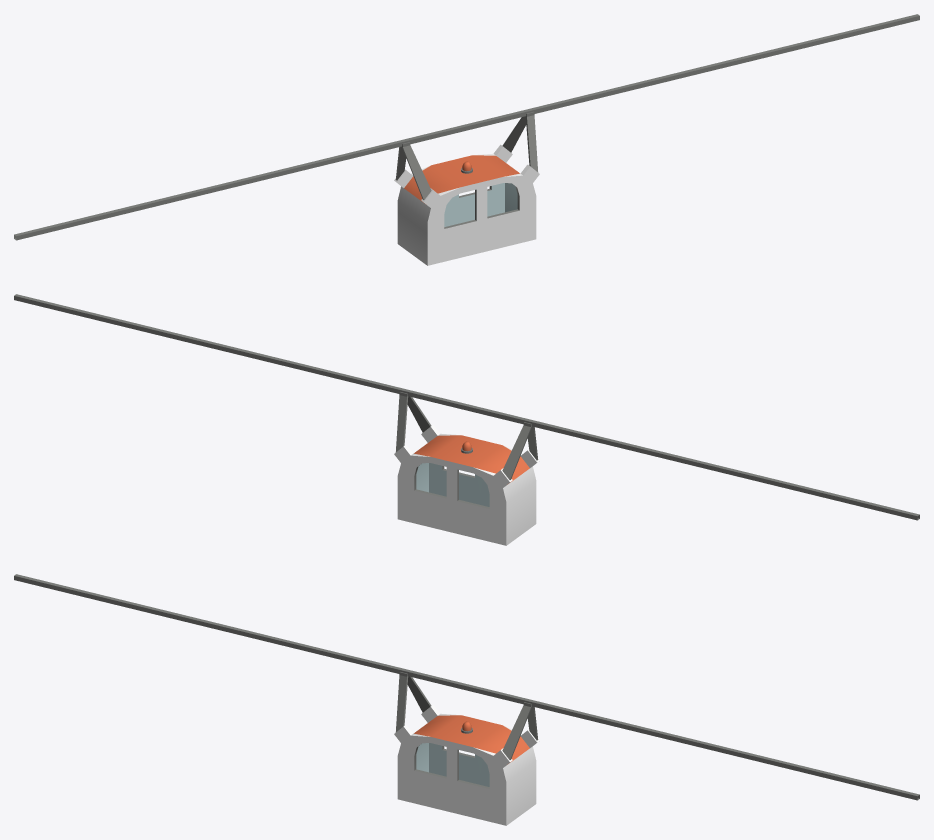
File: CableCAR.fbx
3 views of the same model, one above another, from view 1: azimuth 30°, elevation 25°; view 2: azimuth 150°, elevation 25°; view 3: azimuth 330°, elevation 25° (orthographic).
Parts seen in each view (by area): view 1: CableCar, CableCar_Rope; view 2: CableCar, CableCar_Rope; view 3: CableCar, CableCar_Rope.
Part boxes in pixels (x1=…): CableCar: x1=394, y1=112, x2=539, y2=265; CableCar_Rope: x1=14, y1=14, x2=919, y2=240; CableCar: x1=394, y1=392, x2=539, y2=545; CableCar_Rope: x1=14, y1=294, x2=919, y2=520; CableCar: x1=394, y1=672, x2=539, y2=825; CableCar_Rope: x1=14, y1=574, x2=919, y2=800.
Bounding box in the file's own units: 1395 × 172 × 80.
